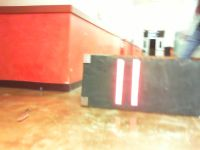switch: (130, 59, 141, 107), (114, 58, 125, 105)
